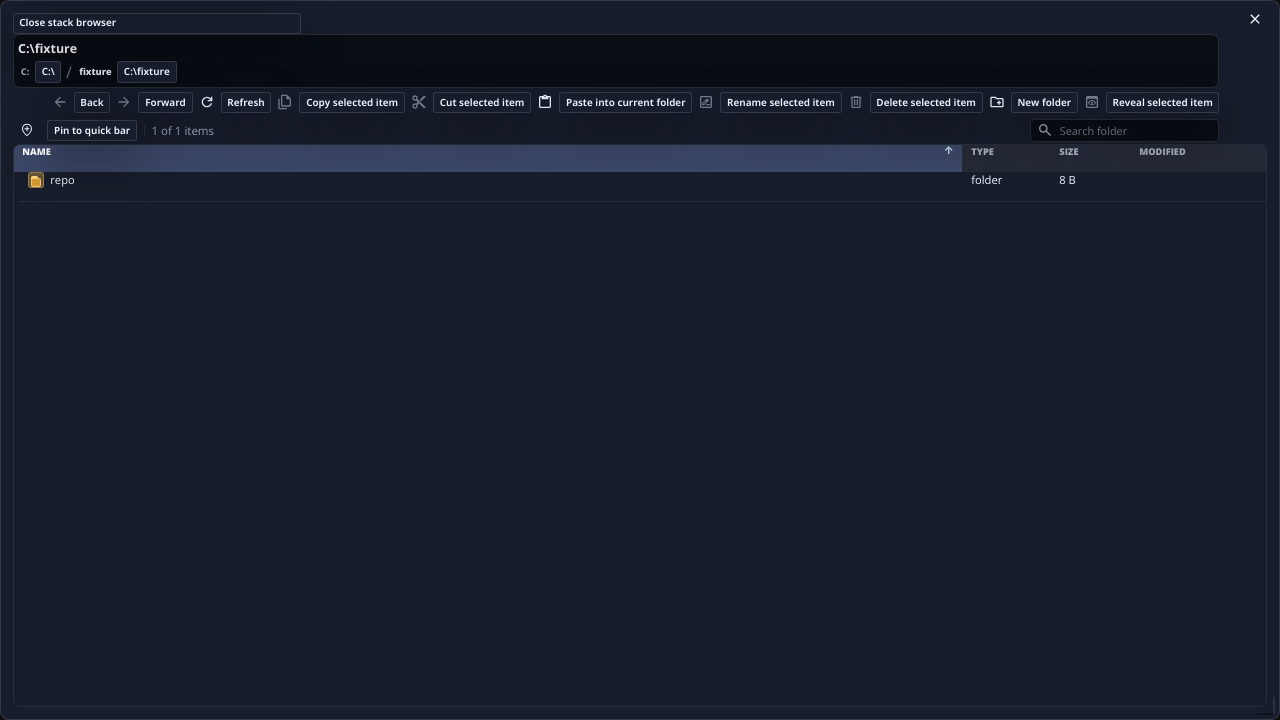
Test: collapsed staged Changes group removes visible diff; Forward preserves panel and Back closes panel without folder navigation
The width and height of the screenshot is (1280, 720).
Double-click the text "repo" at point(62, 180), box top-left (50, 172), bottom-right (75, 188)
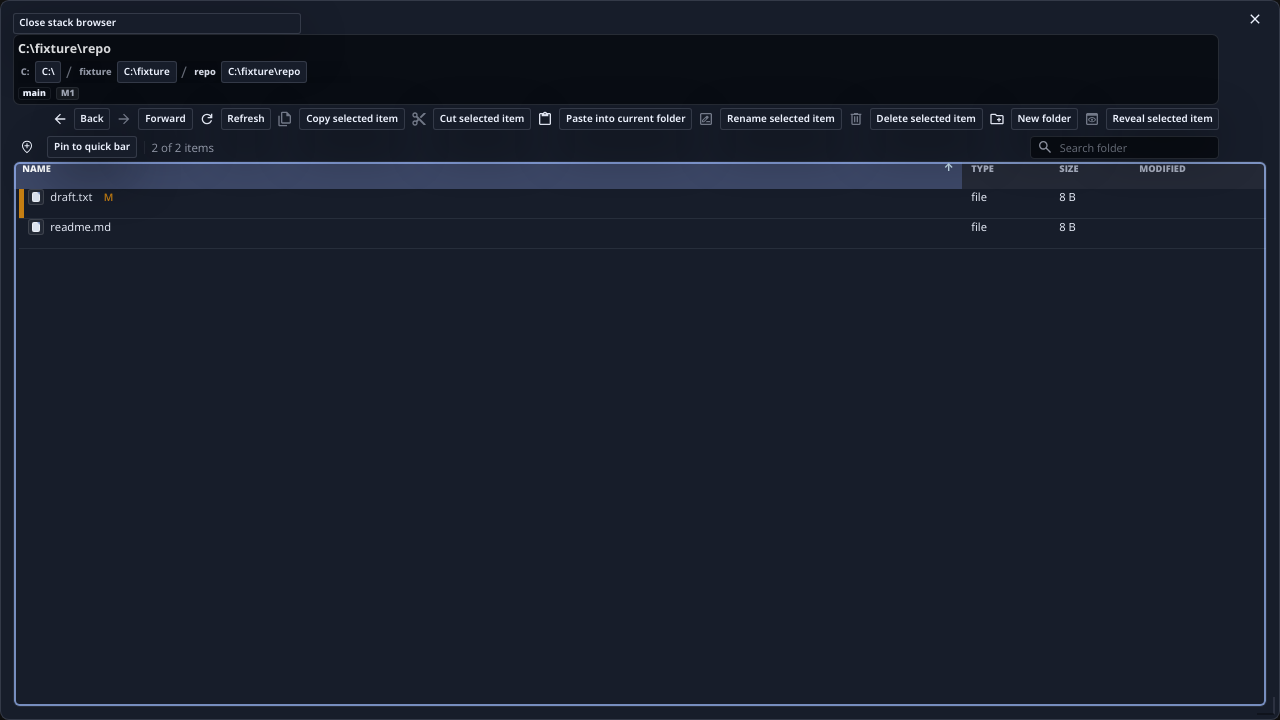
Check: the text "draft.txt" is shown, box top-left (50, 189), bottom-right (92, 204)
Click the button "main" at point(34, 93), box top-left (18, 86), bottom-right (51, 100)
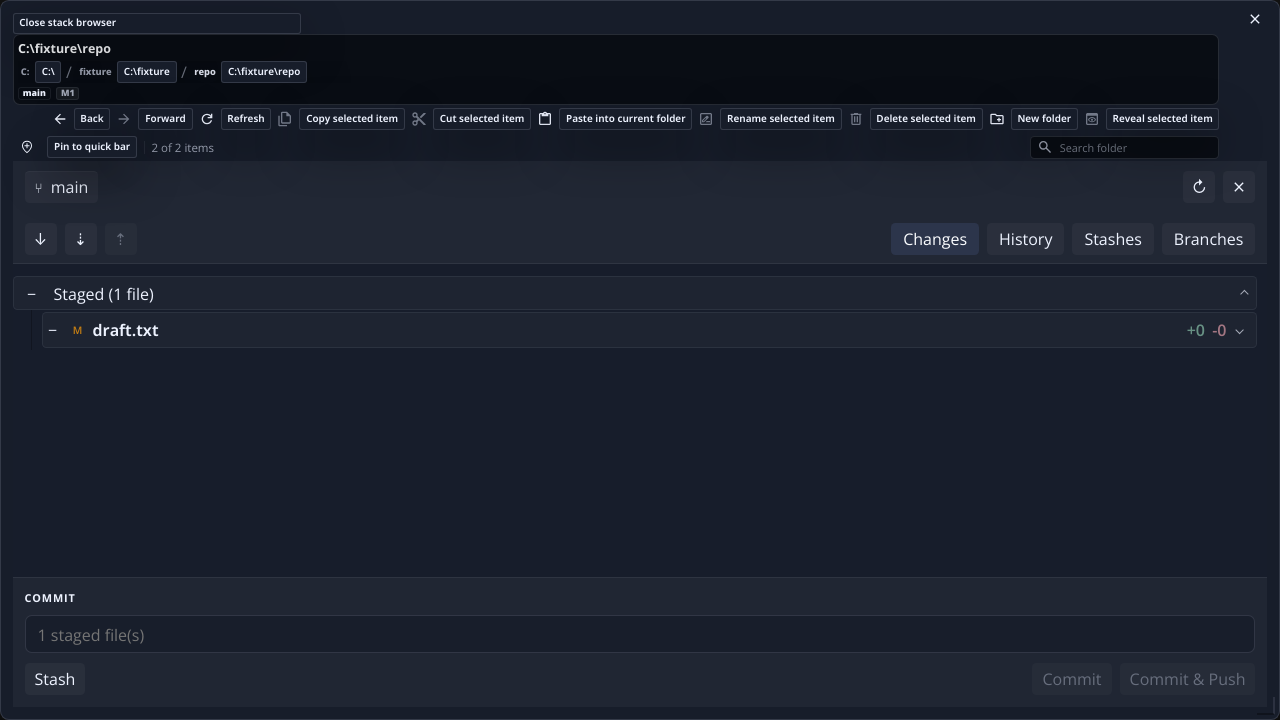
Check: the button with aria-label "Branch main" is shown, box top-left (24, 171), bottom-right (98, 203)
Click the button "M draft.txt +0 -0" at point(126, 330), box top-left (62, 313), bottom-right (1256, 347)
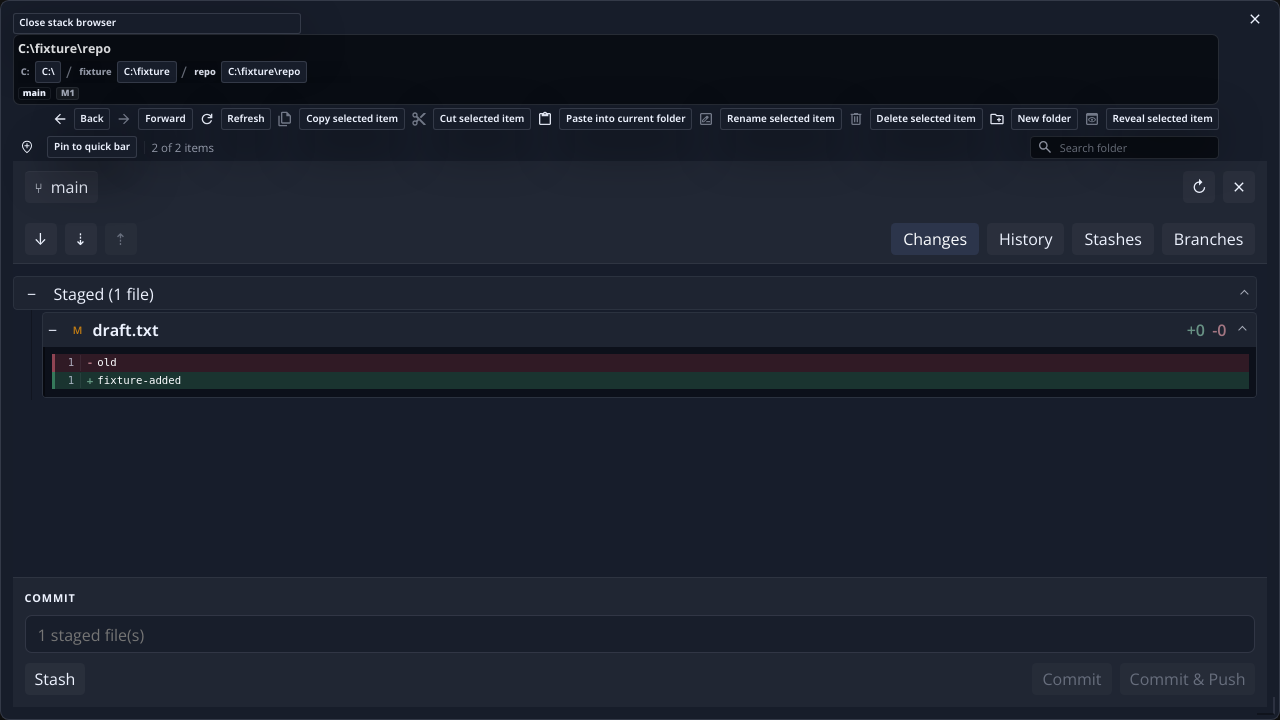
Check: the element named "Diff for draft.txt" is shown, box top-left (42, 347), bottom-right (1256, 397)
Click the button "Staged (1 file)" at point(104, 294), box top-left (50, 277), bottom-right (1256, 311)
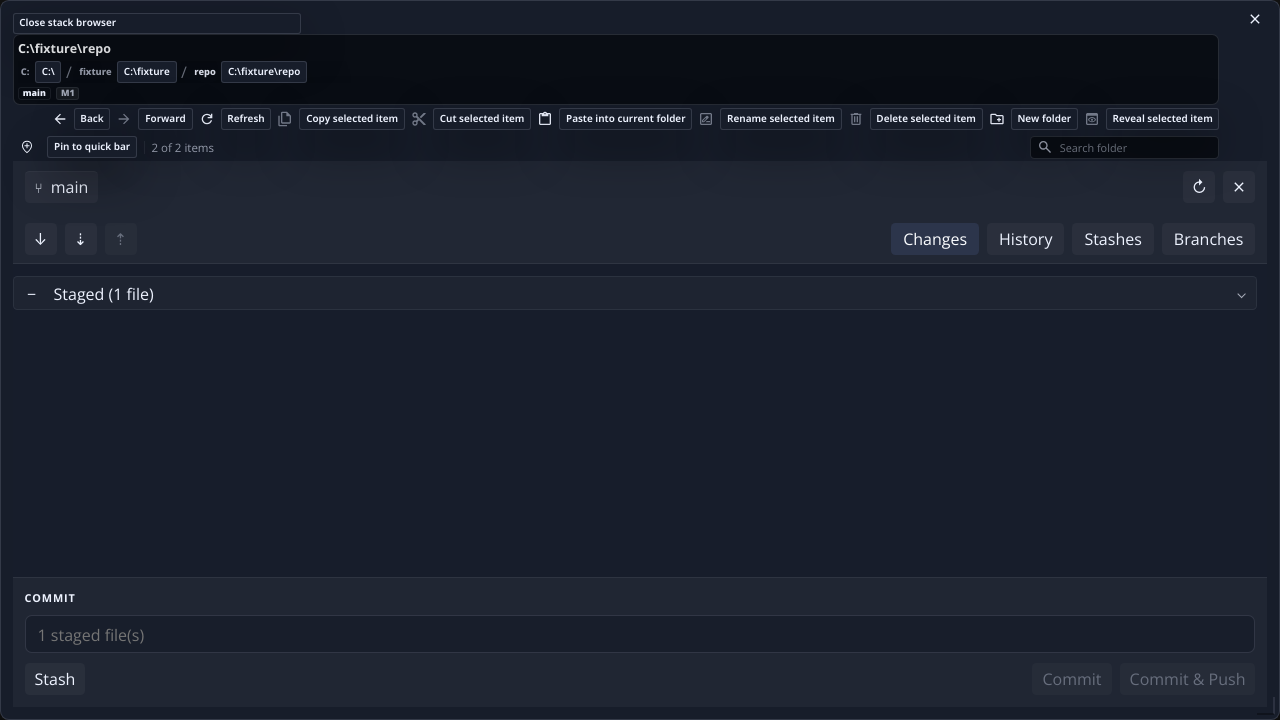
Check: the element with class "stack-git-change-diff-drawer" is gone
Press the mouse on the element "stack browser" at point(640, 360), box top-left (0, 0), bottom-right (1279, 719)
Press the mouse on the element "stack browser" at point(640, 360), box top-left (0, 0), bottom-right (1279, 719)
Check: the button named "Forward" is disabled, box top-left (110, 105), bottom-right (138, 133)
Check: the element named "Git panel" is shown
Check: the button named "Back" is enabled, box top-left (46, 105), bottom-right (74, 133)
Press the mouse on the element "stack browser" at point(640, 360), box top-left (0, 0), bottom-right (1279, 719)
Press the mouse on the element "stack browser" at point(640, 360), box top-left (0, 0), bottom-right (1279, 719)
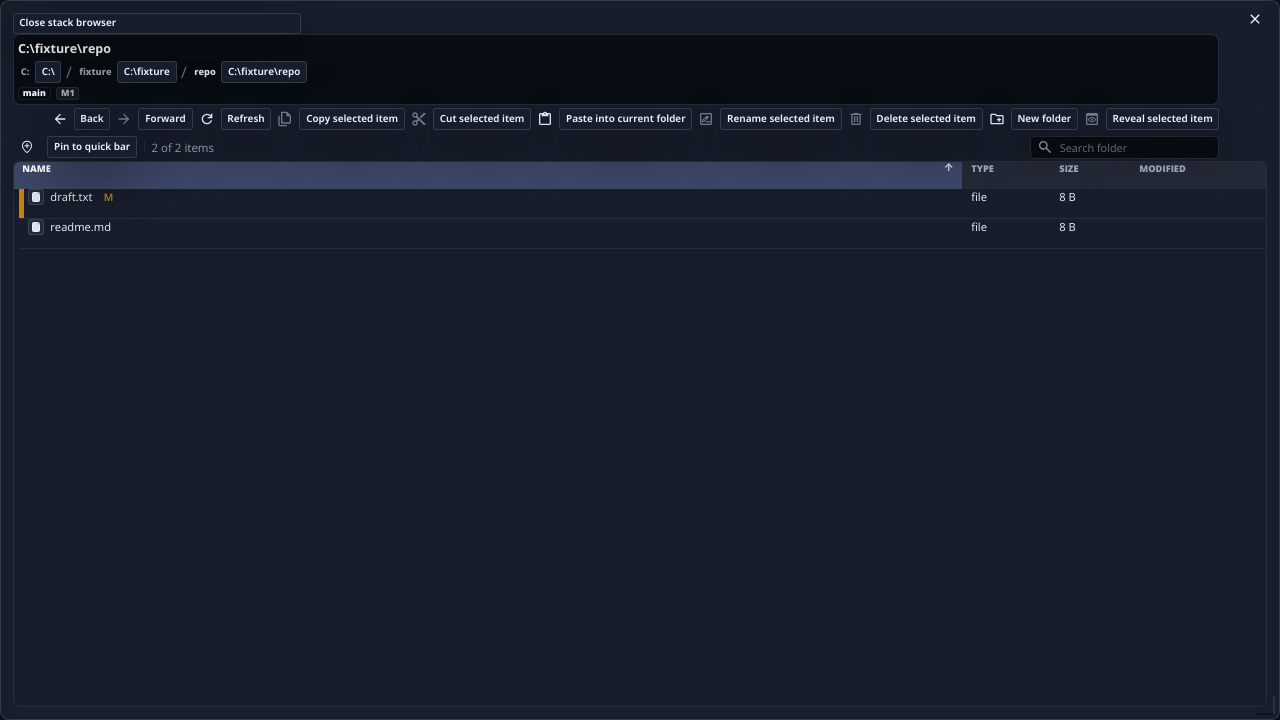
Check: the button named "Forward" is disabled, box top-left (110, 105), bottom-right (138, 133)
Check: the button named "Back" is enabled, box top-left (46, 105), bottom-right (74, 133)
Check: the table named "Folder details" is shown
